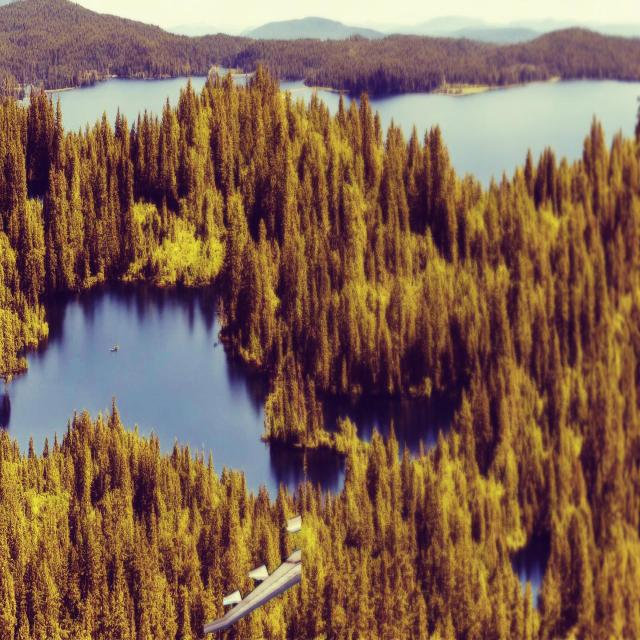airplane: (203, 514, 302, 633)
